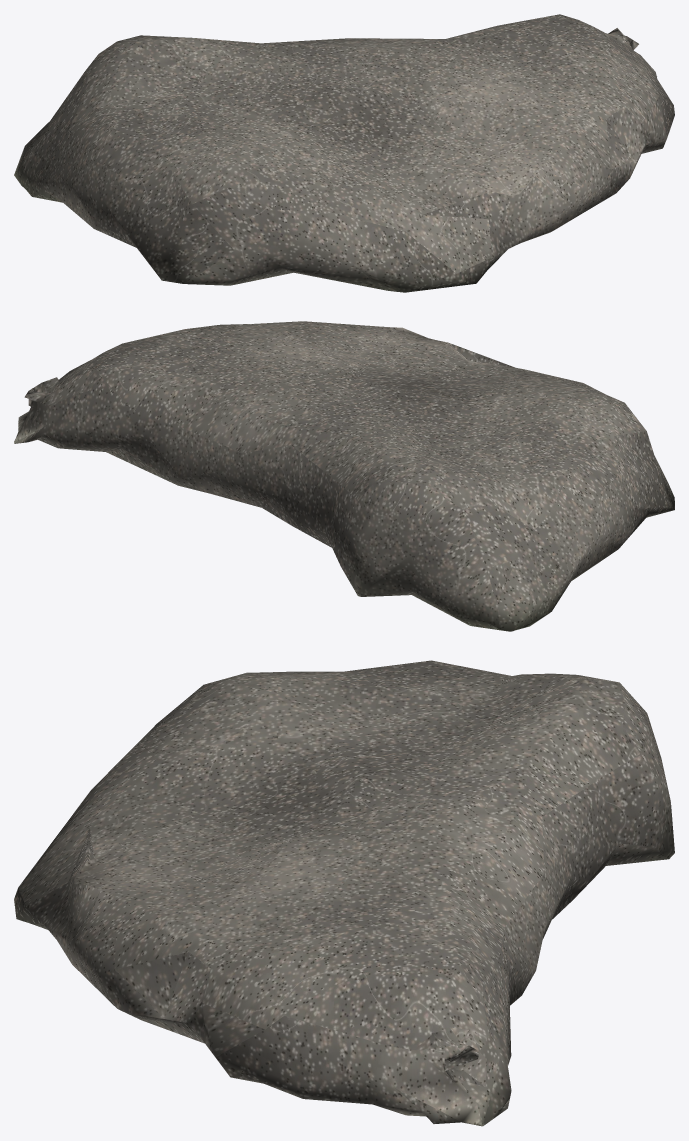
Rendered from Pebble_Round_1.gltf.
3 views of the same model, one above another, from view 1: azimuth 30°, elevation 25°; view 2: azimuth 150°, elevation 25°; view 3: azimuth 270°, elevation 25° (orthographic). The views are drawn at different scales.
Visible parts, largest first — view 1: Pebble_Round_1; view 2: Pebble_Round_1; view 3: Pebble_Round_1.
Part boxes in pixels (box(x1,y1,x2,y2)): Pebble_Round_1: box(14, 14, 674, 292); Pebble_Round_1: box(14, 321, 674, 631); Pebble_Round_1: box(14, 660, 674, 1126).
Size of the model in its own units: 0.4729 by 0.1018 by 0.347.
Materials: 1 (1 with a texture image).
